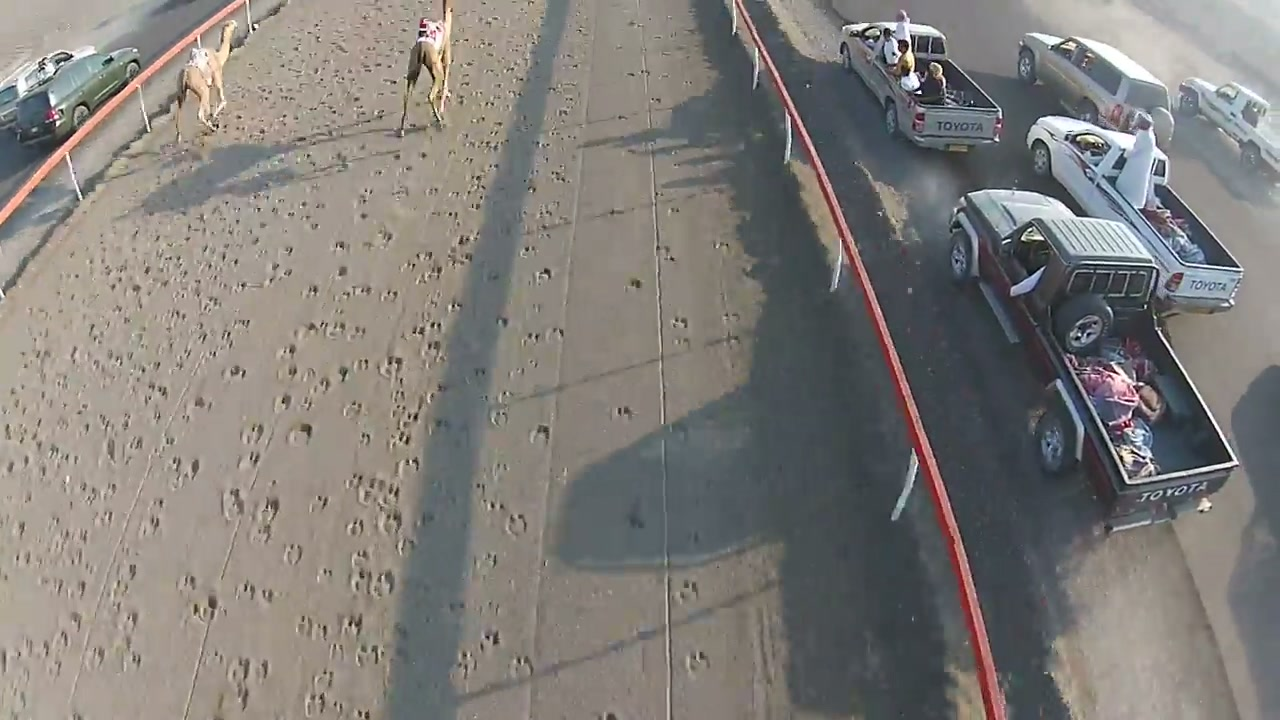animal_footprint: (184, 204, 500, 708), (37, 162, 291, 668)
